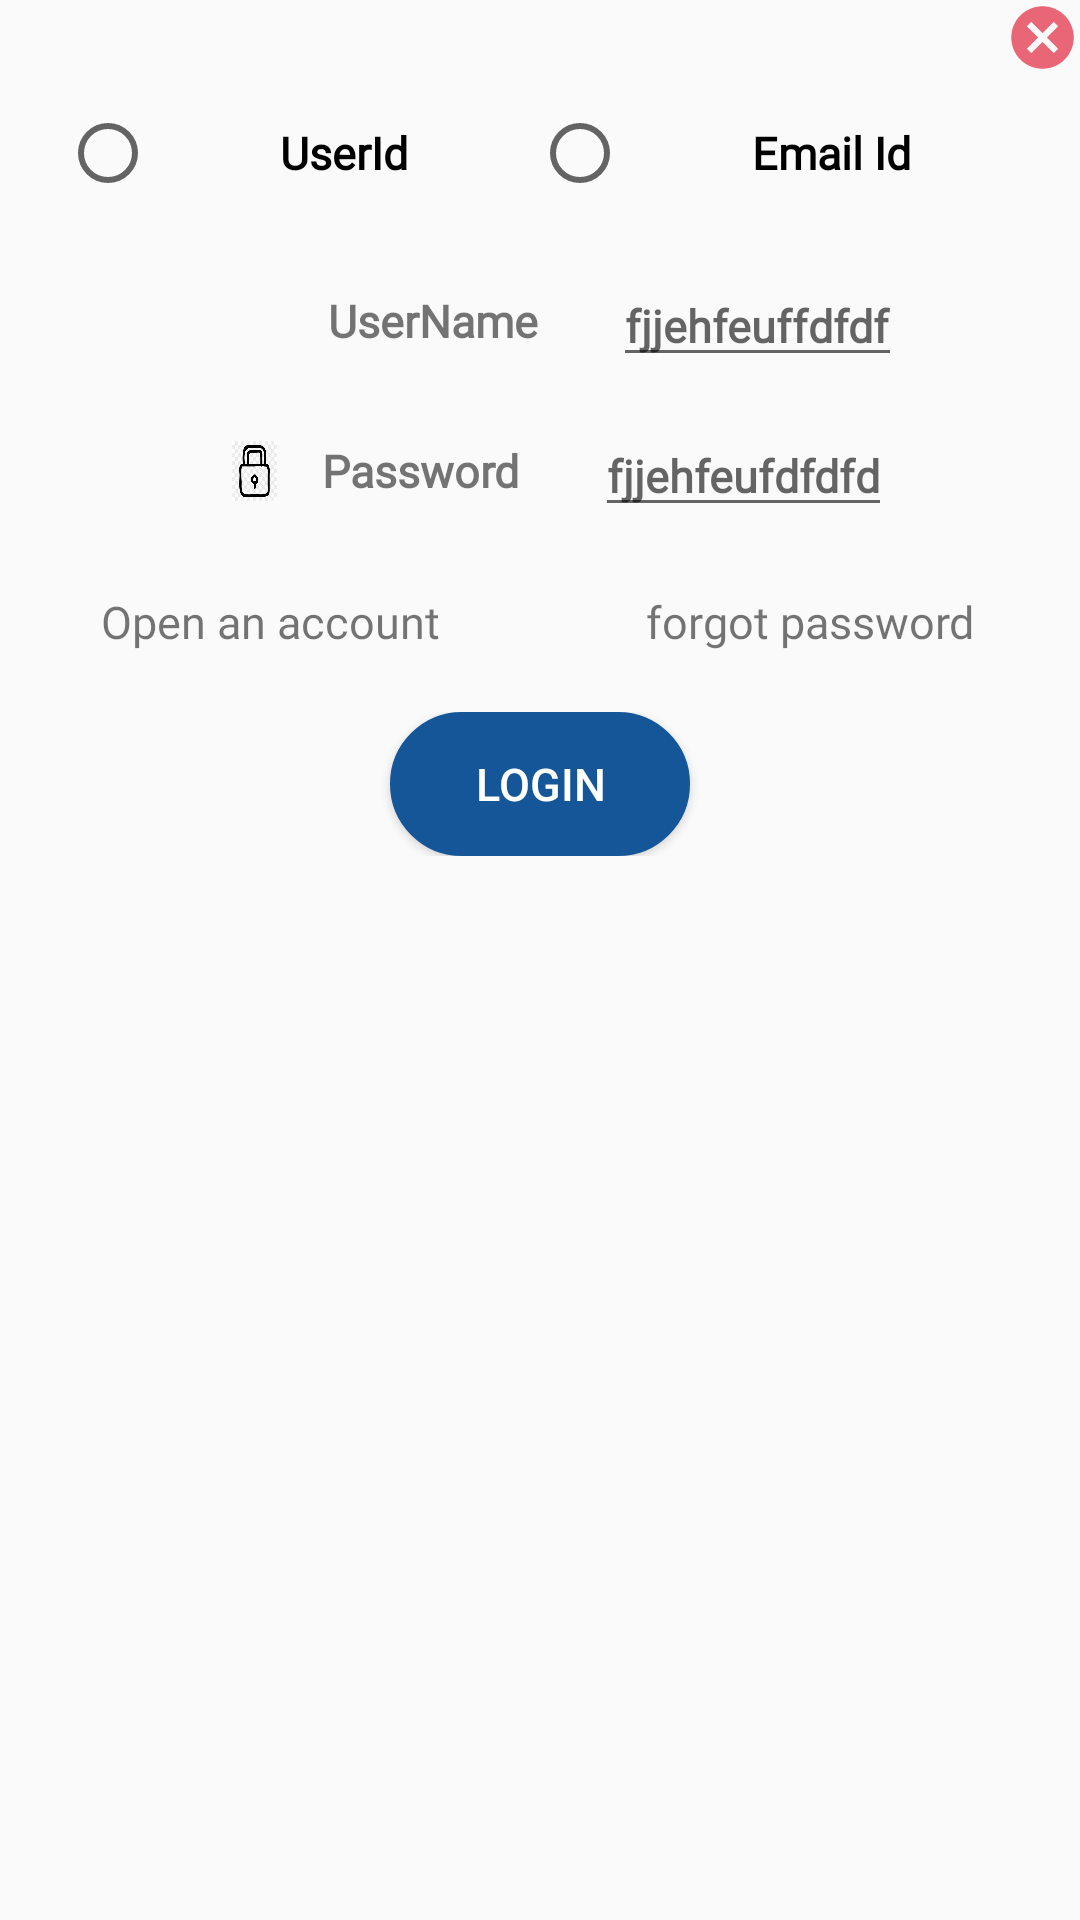

Screen size 1080px×1920px. Icon name, then its center in pixels as (x=x, y=y):
cancel: (x=1042, y=37)
